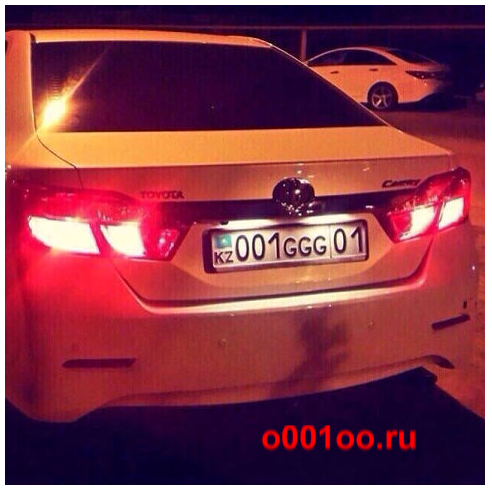license_plate: (209, 223, 369, 268)
